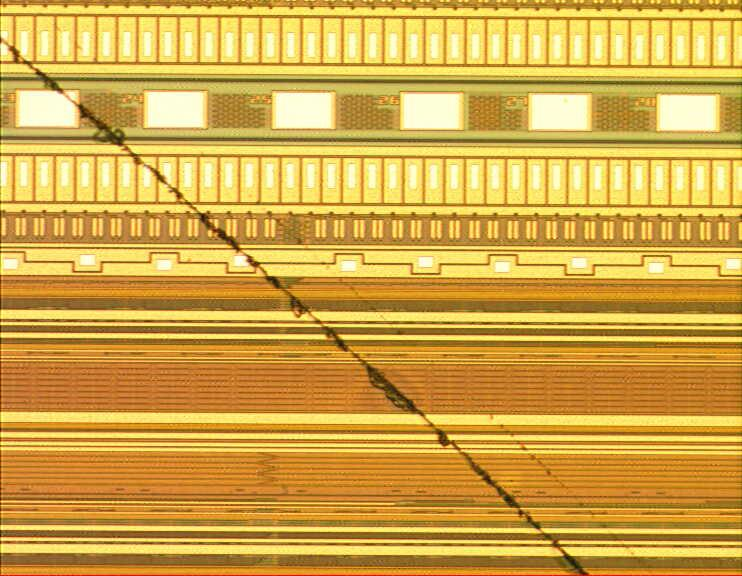SCRATCH: (1, 28, 669, 576)
